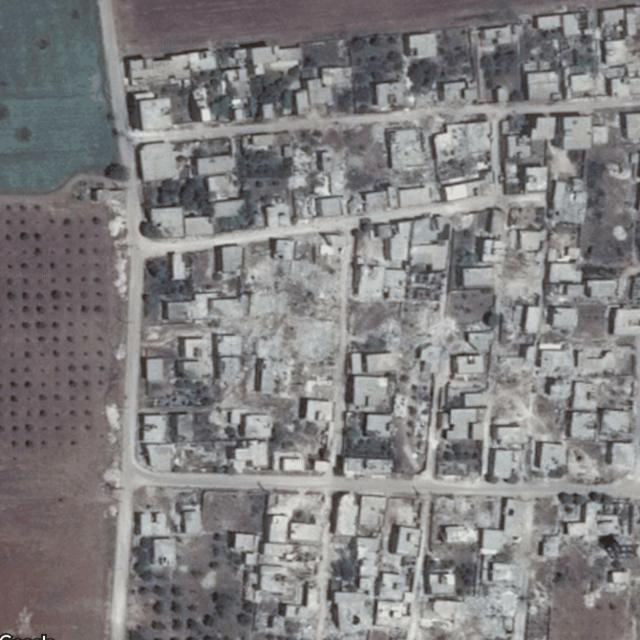damaged_building: (242, 256, 341, 366), (348, 301, 462, 355), (420, 581, 520, 640), (496, 346, 573, 397), (330, 599, 376, 634)
